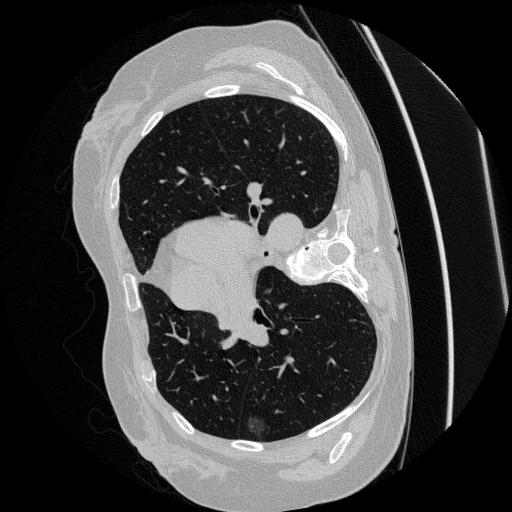nodule: (243, 415, 266, 438)
